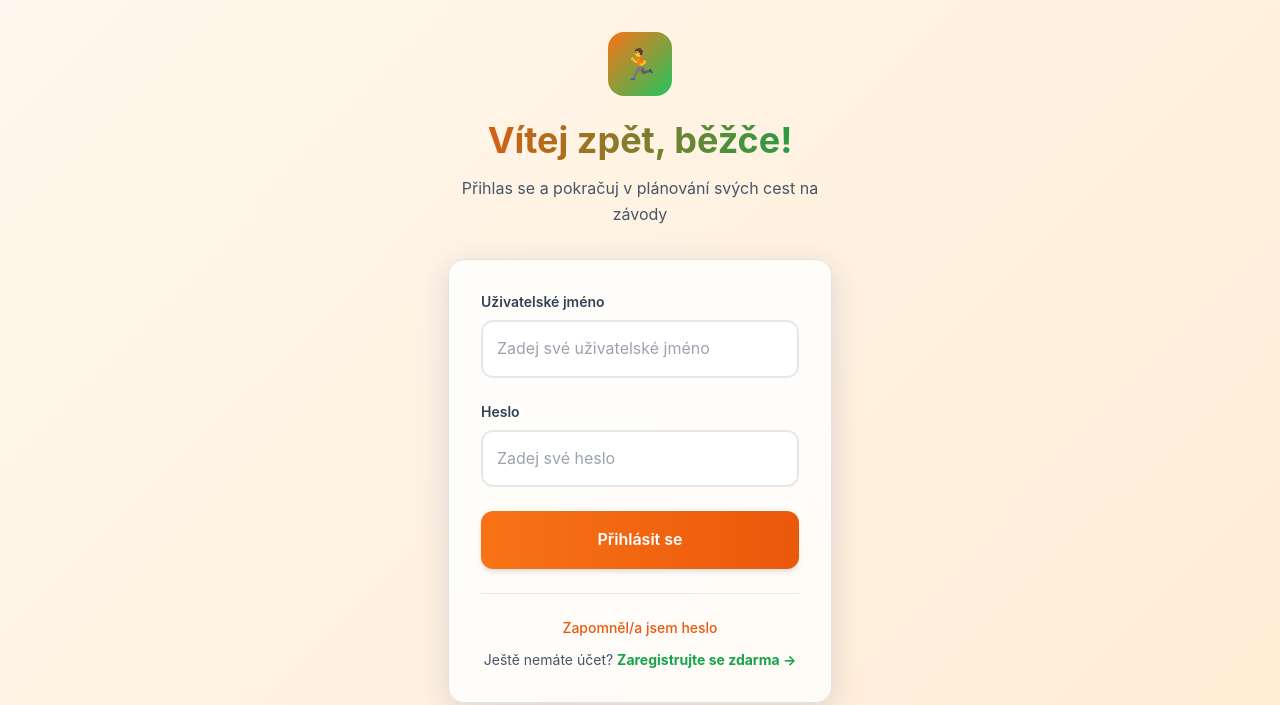
LoginPage Component › should show error for invalid credentials
The image size is (1280, 705).
Type "wronguser" into the field labelled "Uživatelské jméno" at (640, 349), box left=481, top=320, right=799, bottom=378
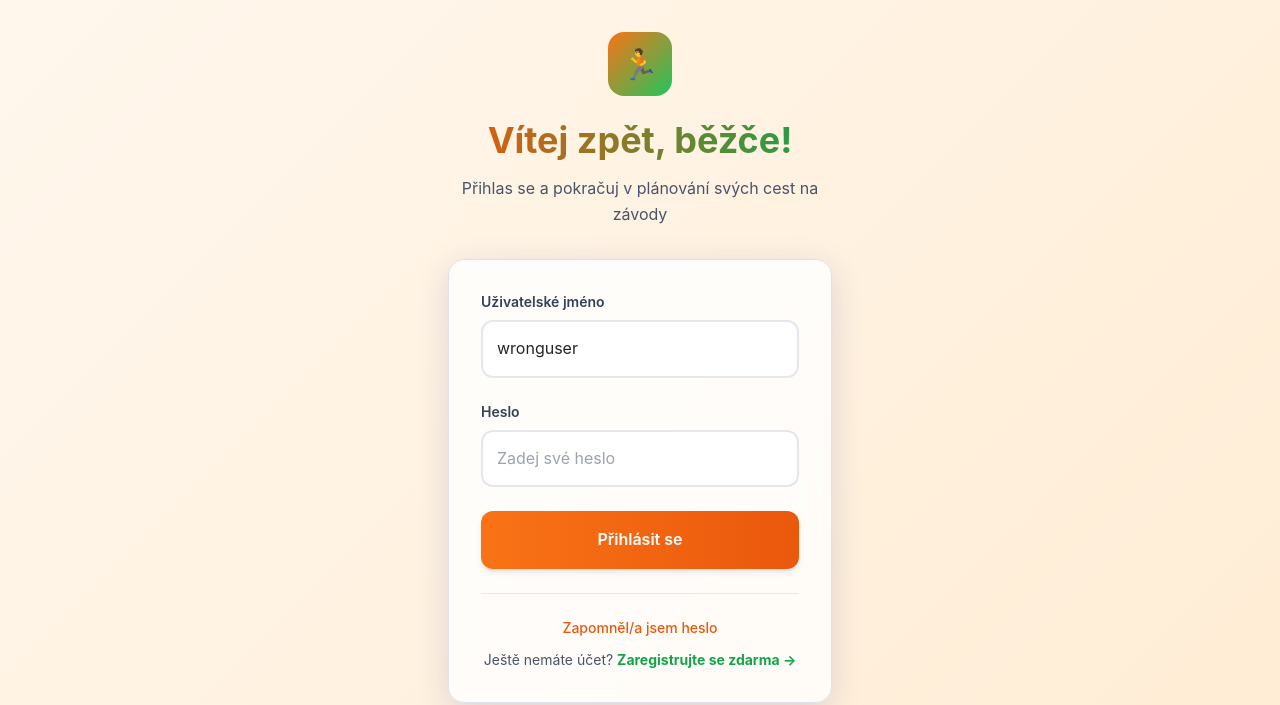
Type "wrongpass" into the password field labelled "Heslo" at (640, 459), box left=481, top=430, right=799, bottom=487
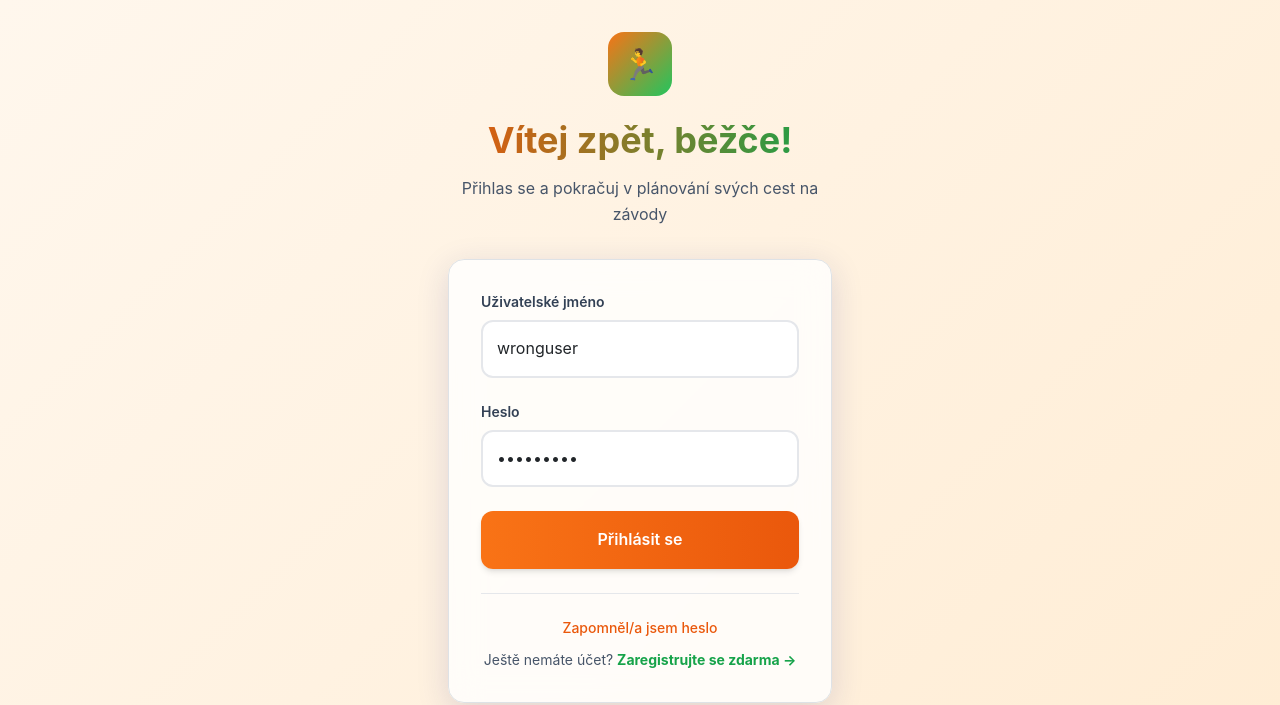
Click the button "Přihlásit se" at (640, 540), box left=481, top=511, right=799, bottom=569
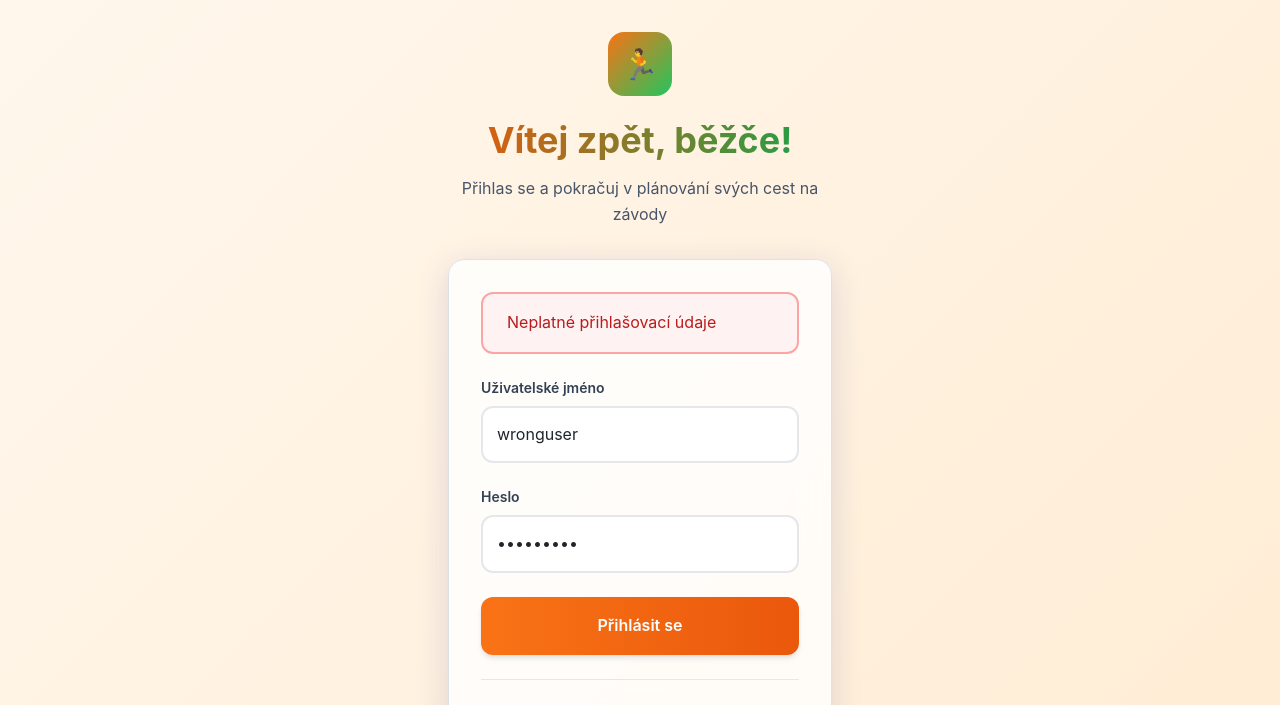
Check: the text "Neplatné přihlašovací údaje" is shown, box left=507, top=312, right=716, bottom=332
